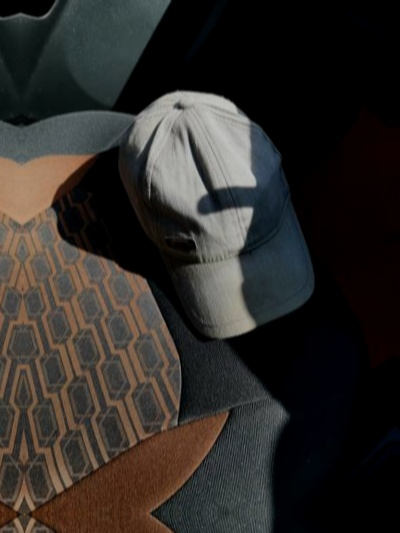Hat: (110, 83, 334, 357)
